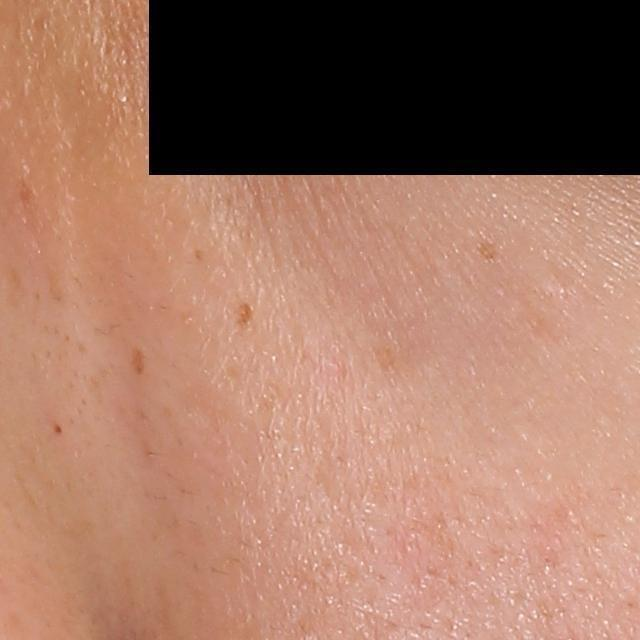melasma: (13, 176, 41, 214), (231, 299, 256, 332), (475, 236, 505, 263), (130, 342, 149, 378)
